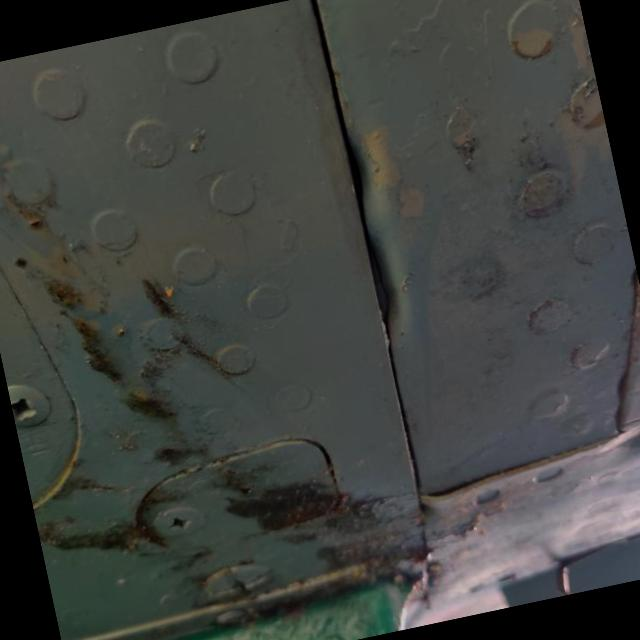dent: (340, 122, 429, 336)
